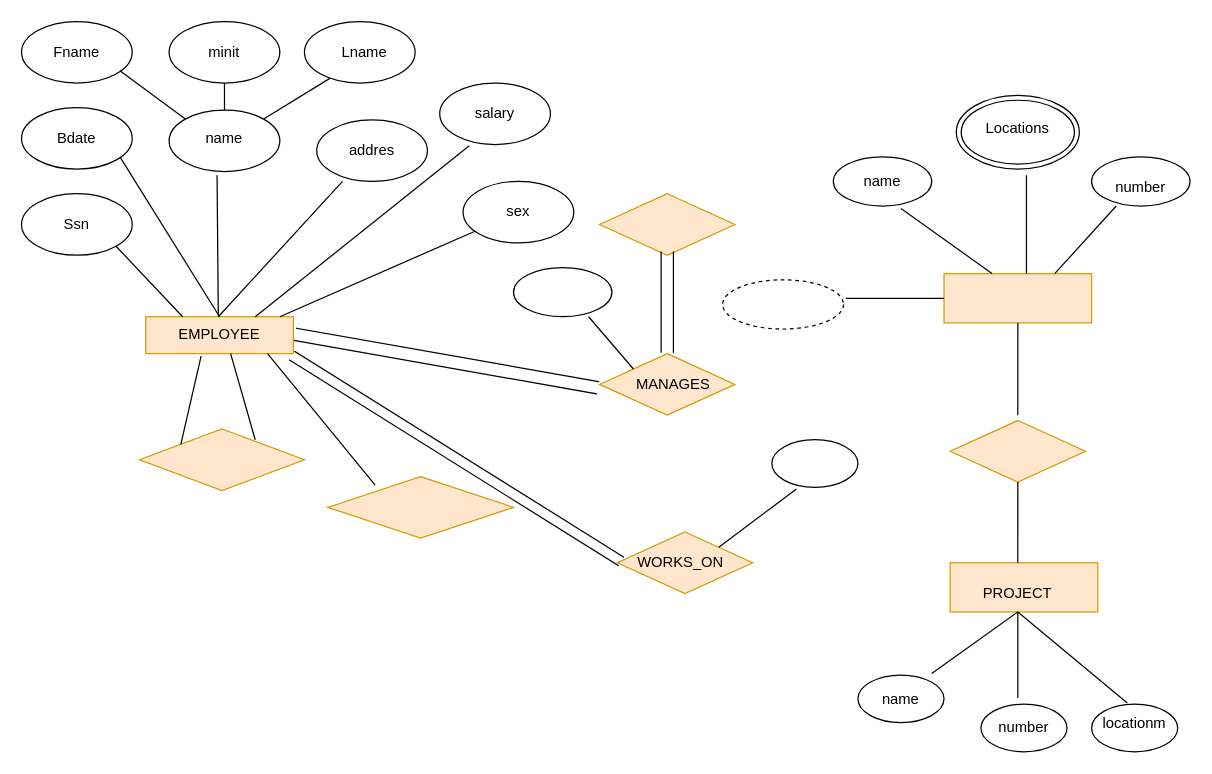
Some shapes in this 1212 by 774 pixel diagram are drawn without their labels. The centre of each missing label's shape, as x and y in pixels:
"CONTROLS" belongs at point (1017, 450).
"DAPARTMENT" belongs at point (1017, 297).
"DEPENDENTS-OF" belongs at point (420, 506).
"hours" belongs at point (814, 462).
"Number-Of_employes" belongs at point (782, 304).
"Start_date" belongs at point (562, 291).
"SUPERVISION" belongs at point (221, 459).
"WORKS_FOR" belongs at point (666, 223).
